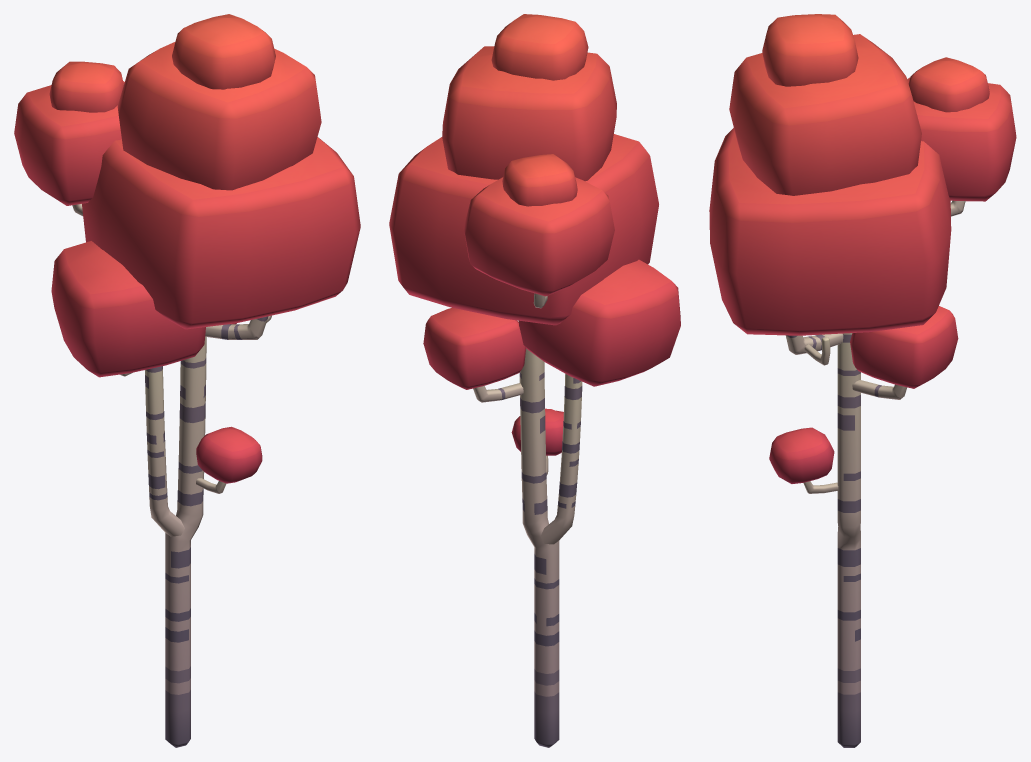
Rendered from birch_tree_SC_01.fbx.
3 views of the same model, side by side, from view 1: azimuth 30°, elevation 25°; view 2: azimuth 150°, elevation 25°; view 3: azimuth 270°, elevation 25° (orthographic). The views are drawn at different scales.
Visible parts, largest first — view 1: birch_tree_SC_01; view 2: birch_tree_SC_01; view 3: birch_tree_SC_01.
Part boxes in pixels (x1,y1,x2,y2): birch_tree_SC_01: [14, 14, 360, 747]; birch_tree_SC_01: [389, 14, 680, 747]; birch_tree_SC_01: [709, 14, 1016, 747].
Size of the model in its own units: 477 by 1300 by 492.
1 material, 1 textured.
